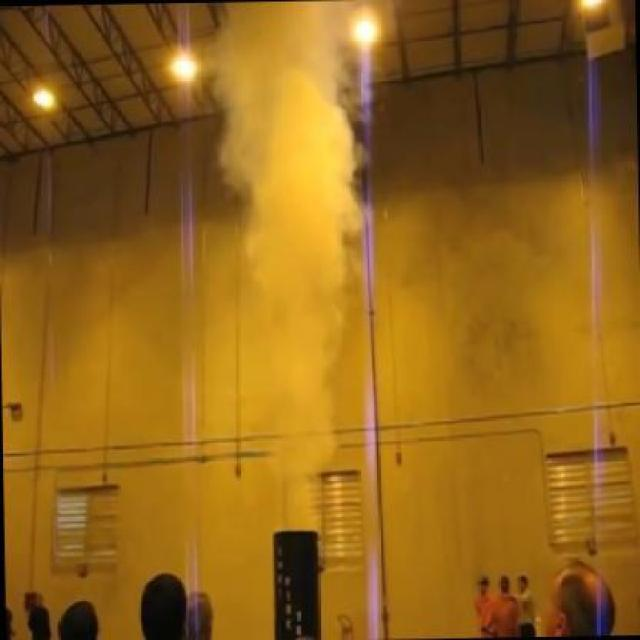fire: (208, 0, 390, 517)
